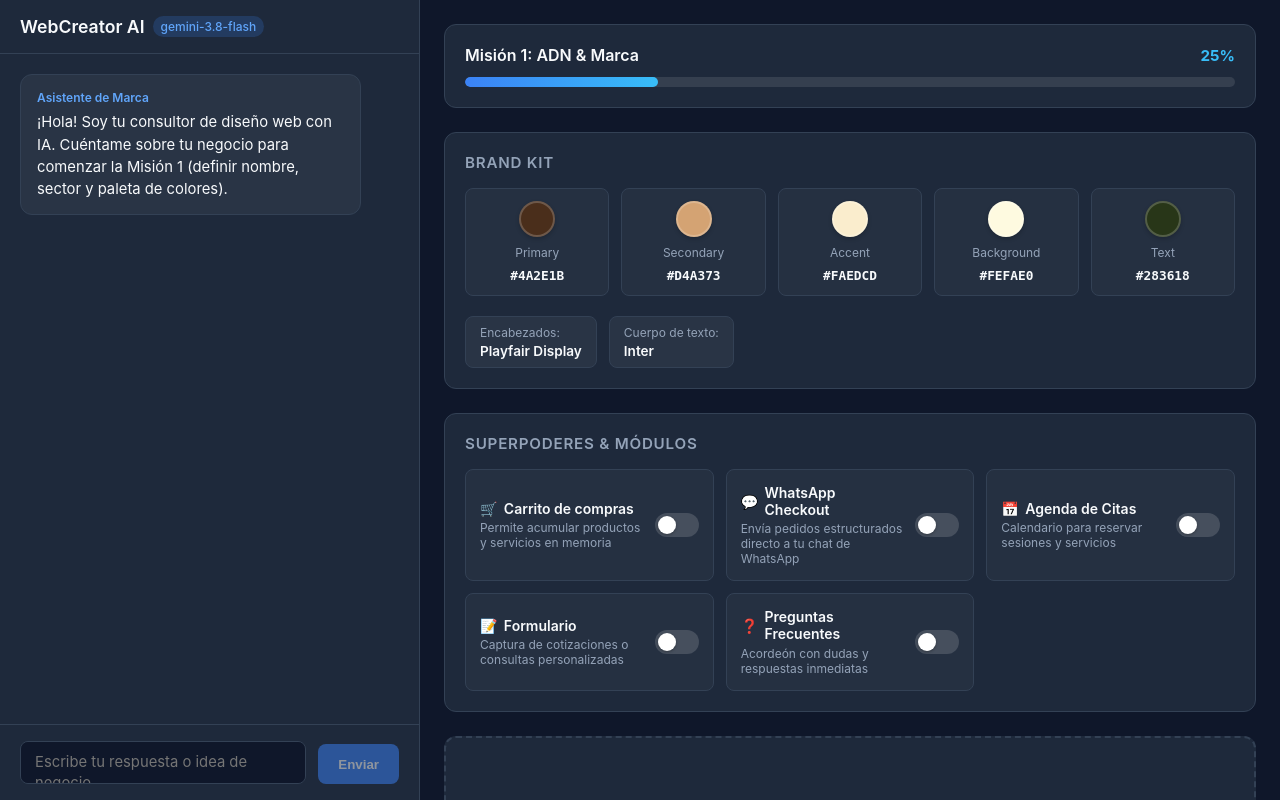
Test: Chat Interactivo y Selector de Marca en Vivo (SDD + TDD) › debe enviar un mensaje desde ChatPanel, agregar la respuesta de IA al historial y actualizar automáticamente el LiveCanvas al 50% (Fase 2) con nuevos colores y
Expected: the text "25%" is shown, [1200,46,1235,64]
Expected: the text "Misión 1: ADN & Marca" is shown, [465,45,639,65]
Type "Tengo una cafetería llamada Café de la Brisa con estilo artesanal." into the text box with placeholder "Escribe tu respuesta o idea de negocio..." at (163, 763), box [20,741,306,784]
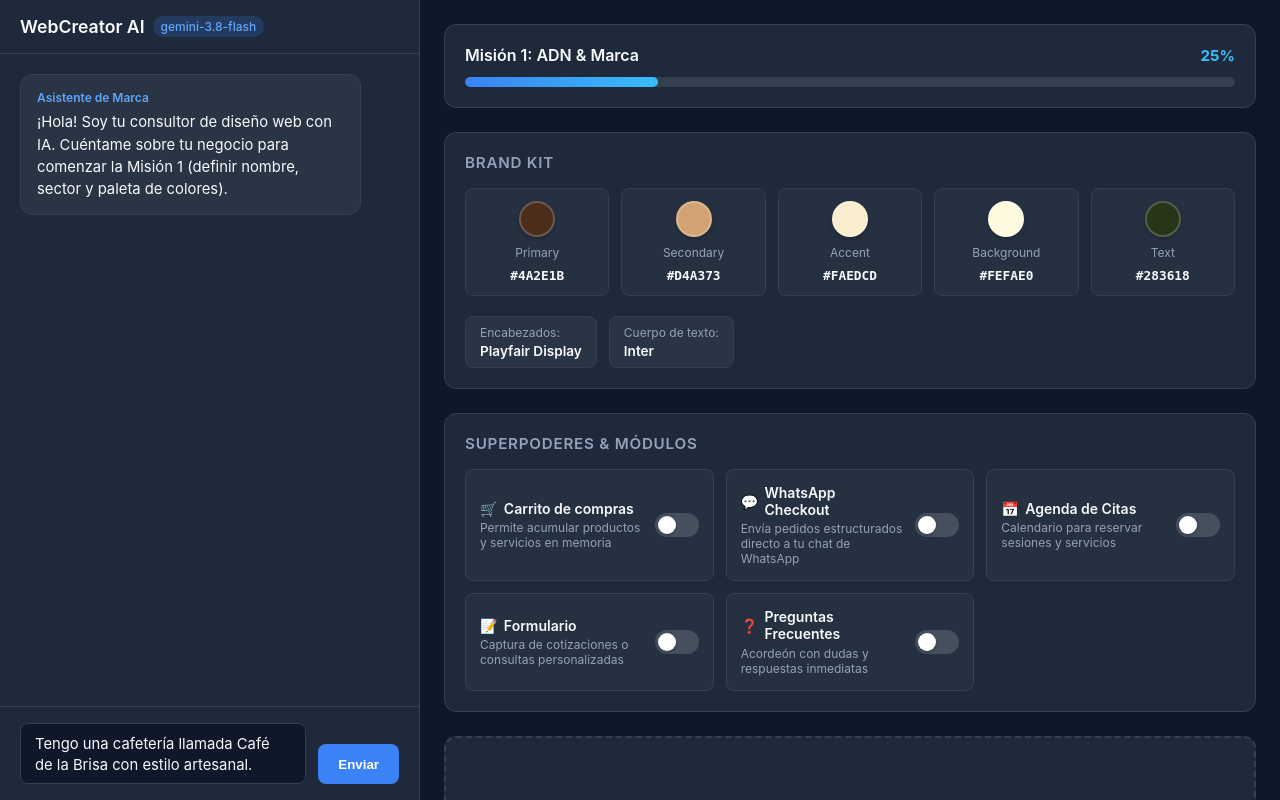
Click the button "Enviar" at (359, 764), box [318,744,399,784]
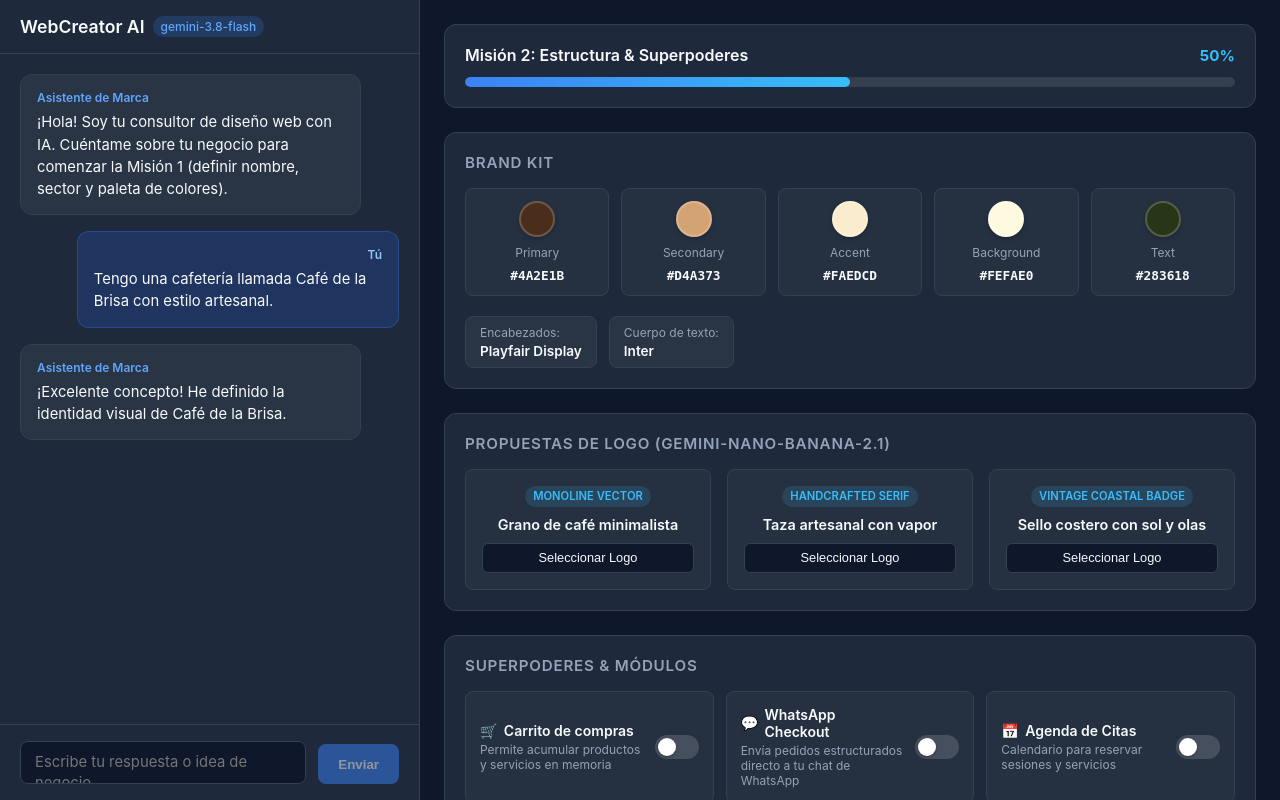
Expected: the text "Tengo una cafetería llamada Café de la Brisa con estilo artesanal." is shown, [94,268,382,312]
Expected: the text "¡Excelente concepto! He definido la identidad visual de Café de la Brisa." is shown, [37,382,287,423]
Expected: the text "50%" is shown, [1200,46,1235,64]
